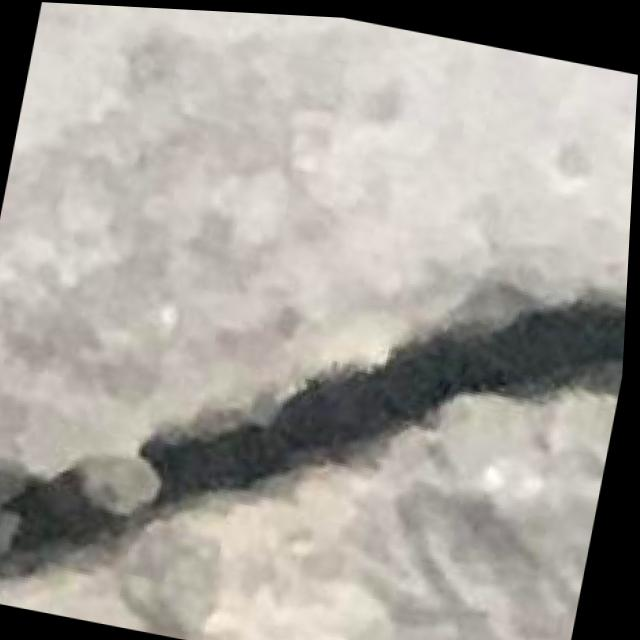Crack: (0, 162, 633, 640)
